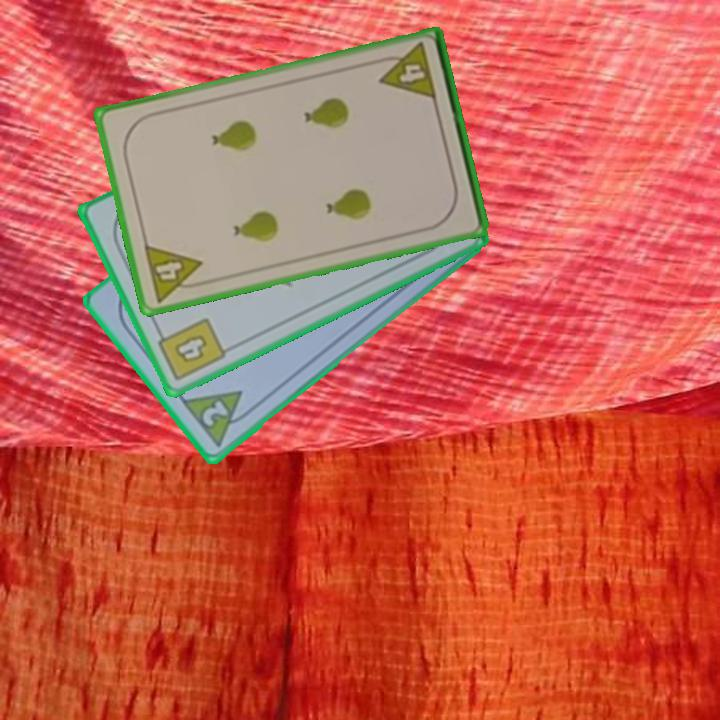2p: (198, 397, 232, 430)
4b: (152, 314, 229, 385)
4p: (140, 241, 209, 305), (372, 39, 439, 104)
